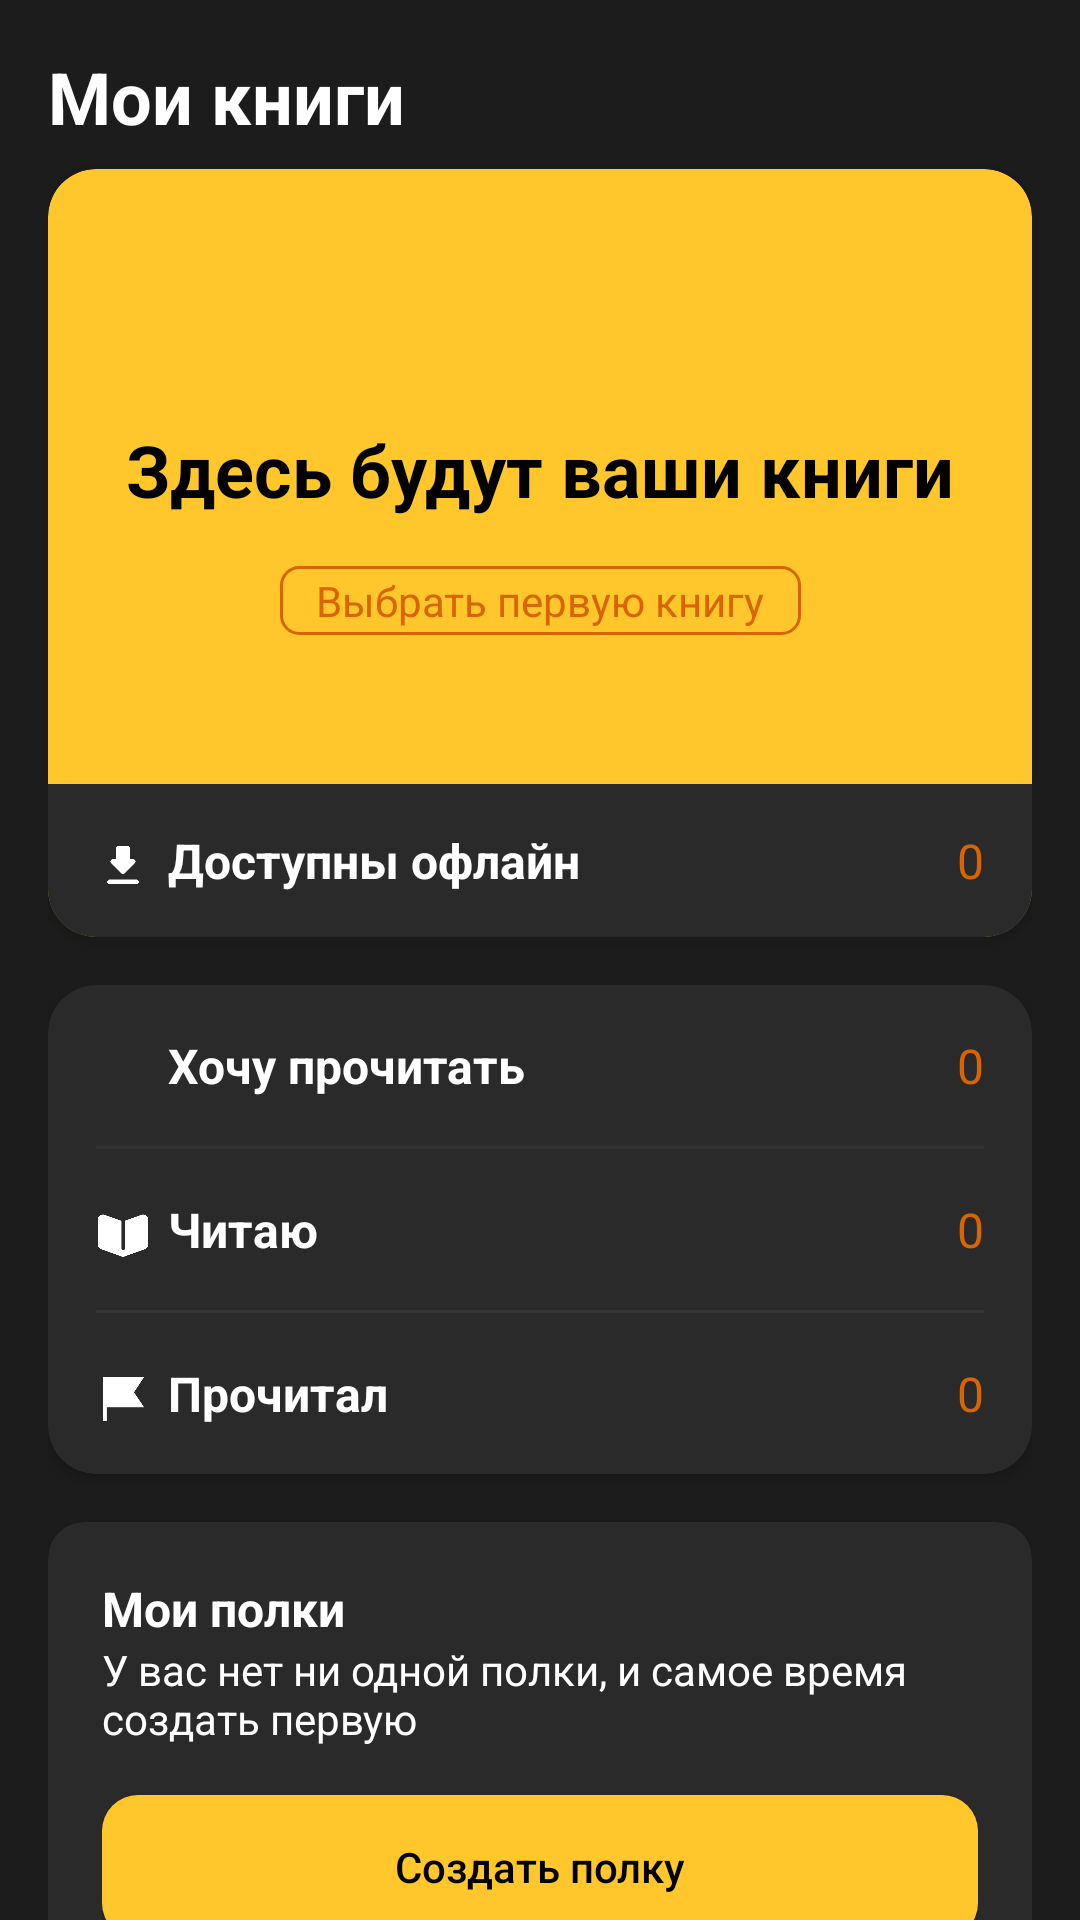

Point at icon controls on the screen. Image size 1080px x 1920px, points as (x,y).
book: (123,1235)
download: (123,865)
flag: (123,1399)
